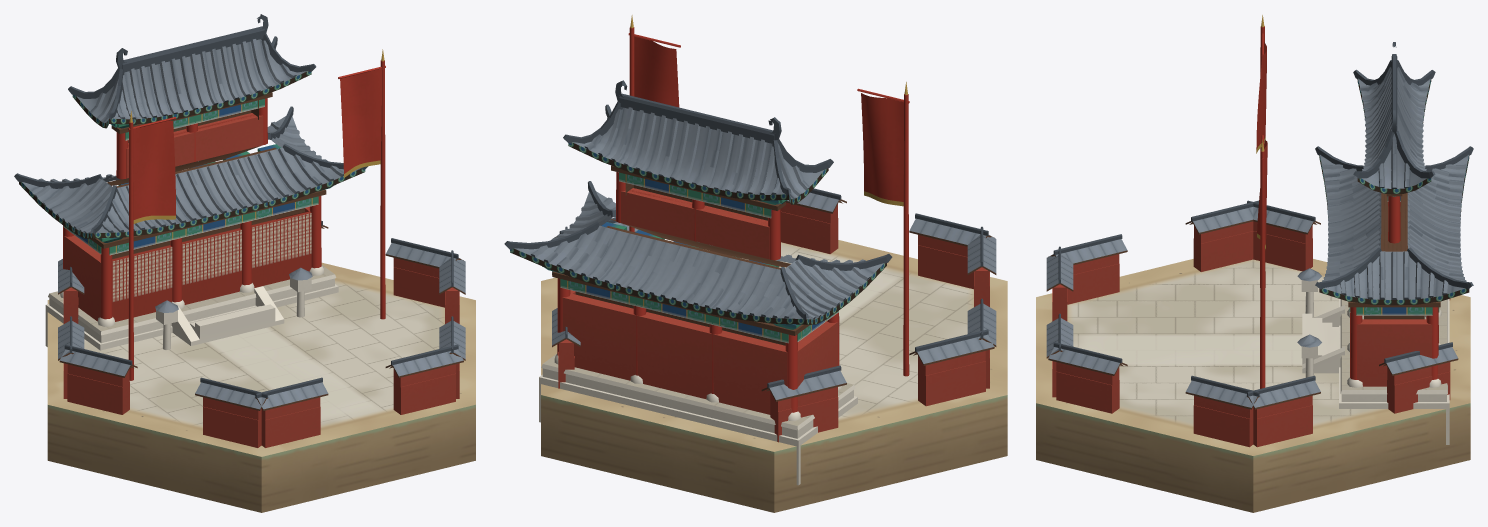
Rendered from Hex_Castle.glb.
3 renders of one model, left to right at view 1: azimuth 30°, elevation 25°; view 2: azimuth 150°, elevation 25°; view 3: azimuth 270°, elevation 25°, orthographic. The views are drawn at different scales.
Visible parts, largest first — view 1: Hex_Castle; view 2: Hex_Castle; view 3: Hex_Castle.
Part boxes in pixels (<box>): Hex_Castle: <box>14,14,475,512</box>; Hex_Castle: <box>504,15,1007,512</box>; Hex_Castle: <box>1036,15,1473,512</box>.
Bounding box in the file's own units: 8 × 5.82 × 6.98.
2 materials, 2 textured.
